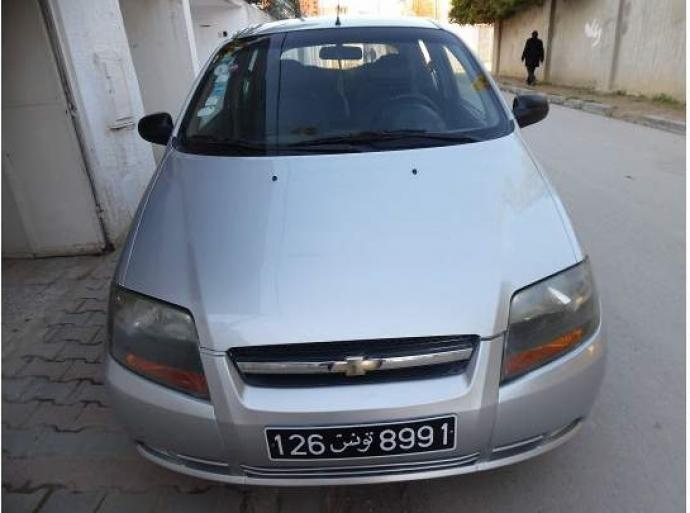LP: (259, 414, 465, 462)
